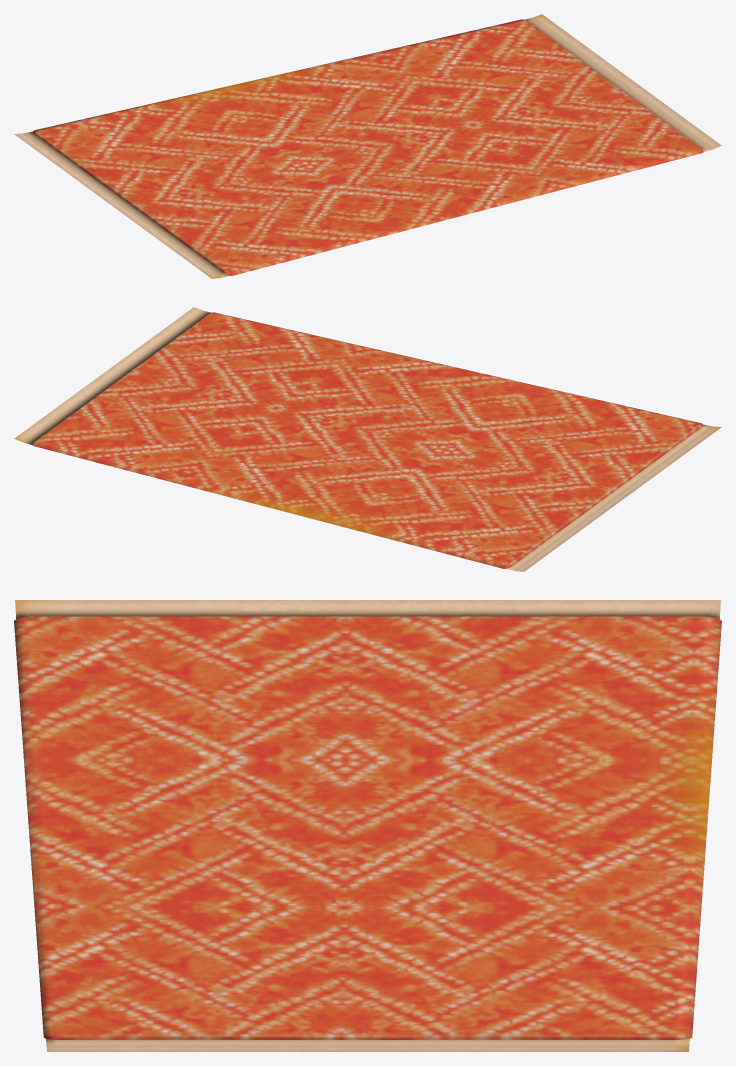
Rendered from SM_Carpet_02.fbx.
3 renders of one model, top to bottom at view 1: azimuth 30°, elevation 25°; view 2: azimuth 150°, elevation 25°; view 3: azimuth 270°, elevation 25°, orthographic. The views are drawn at different scales.
Parts seen in each view (by area): view 1: SM_Carpet_02_LOD0; view 2: SM_Carpet_02_LOD0; view 3: SM_Carpet_02_LOD0.
Part boxes in pixels (box(x1,y1,x2,y2)): SM_Carpet_02_LOD0: box(14, 14, 721, 278); SM_Carpet_02_LOD0: box(14, 307, 721, 571); SM_Carpet_02_LOD0: box(14, 600, 721, 1051).
Size of the model in its own units: 281 by 186 by 0.9535.
1 material, 1 textured.
